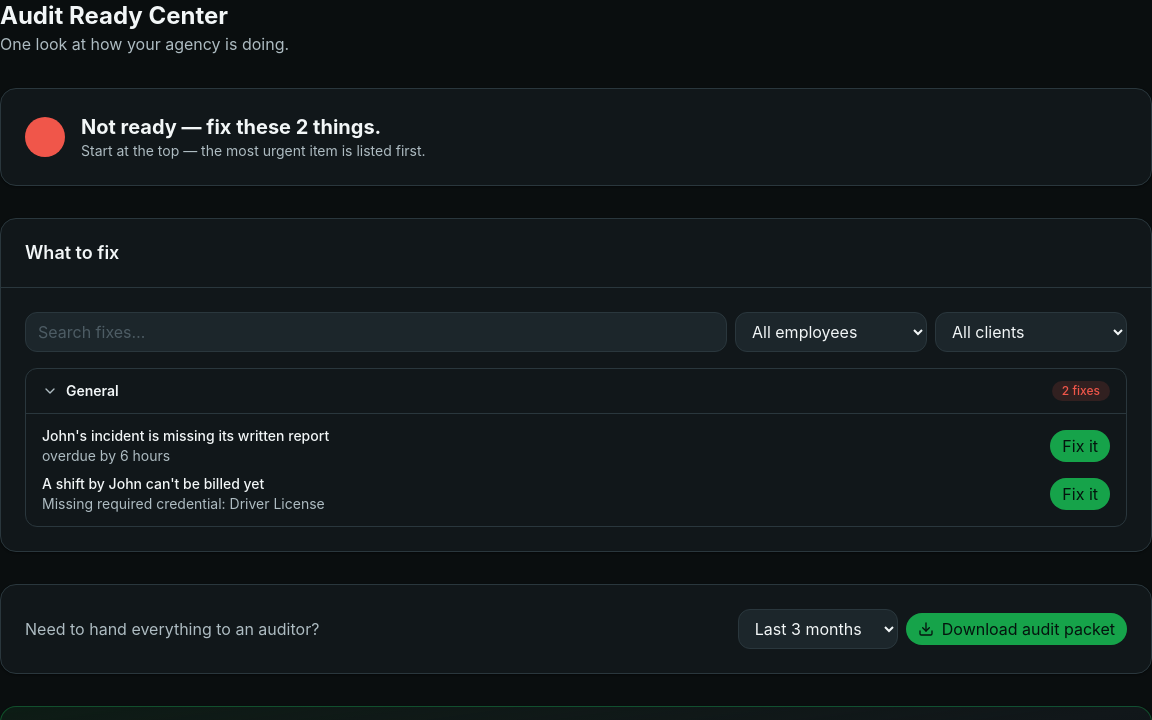
Test case: AuditReadinessPage — simple view (default) › shows a fix-it button per item with in-place actions per kind
The image size is (1152, 720).
expect the text "Not ready — fix these 2 things." is shown: met, box [81,113,426,141]
expect the text "overdue by 6 hours" is shown: met, box [42,447,170,464]
# SIR items record the report in place instead of redirecting.
Click the button "Fix it" in the row of "overdue by 6 hours" at (1080, 446), box [1050,430,1110,462]
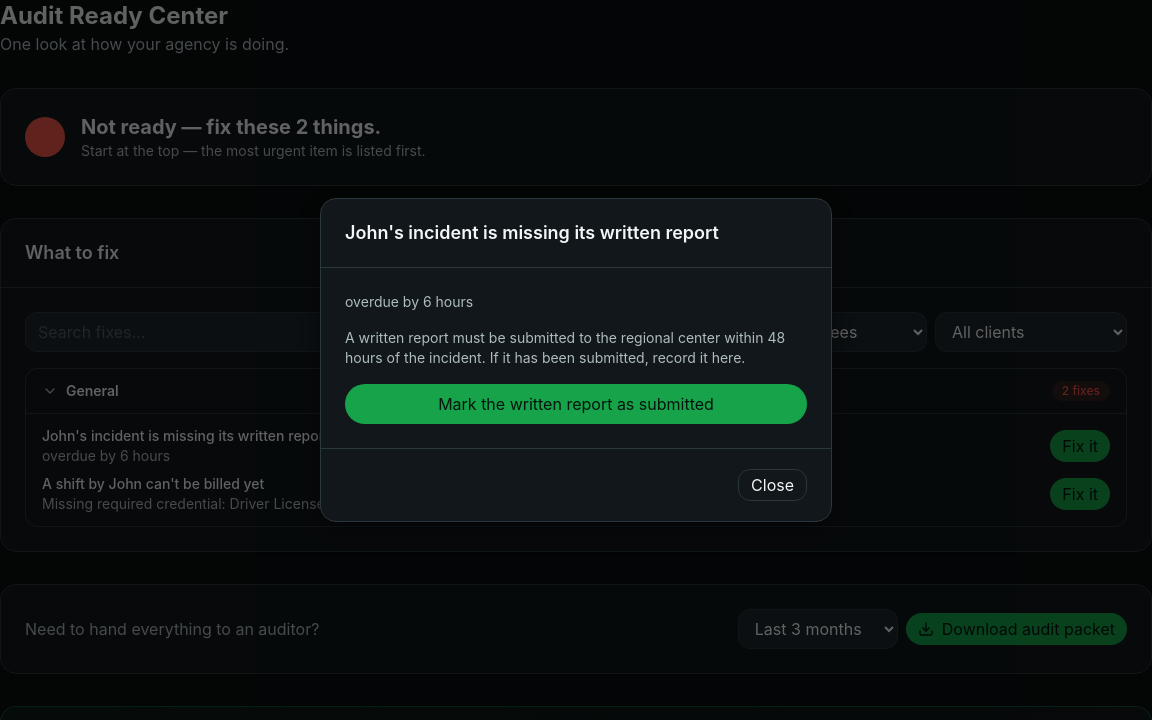
expect the button "Mark the written report as submitted" is shown: met, box [345,384,807,424]
Click the button "Close" at (773, 485), box [738,469,807,501]
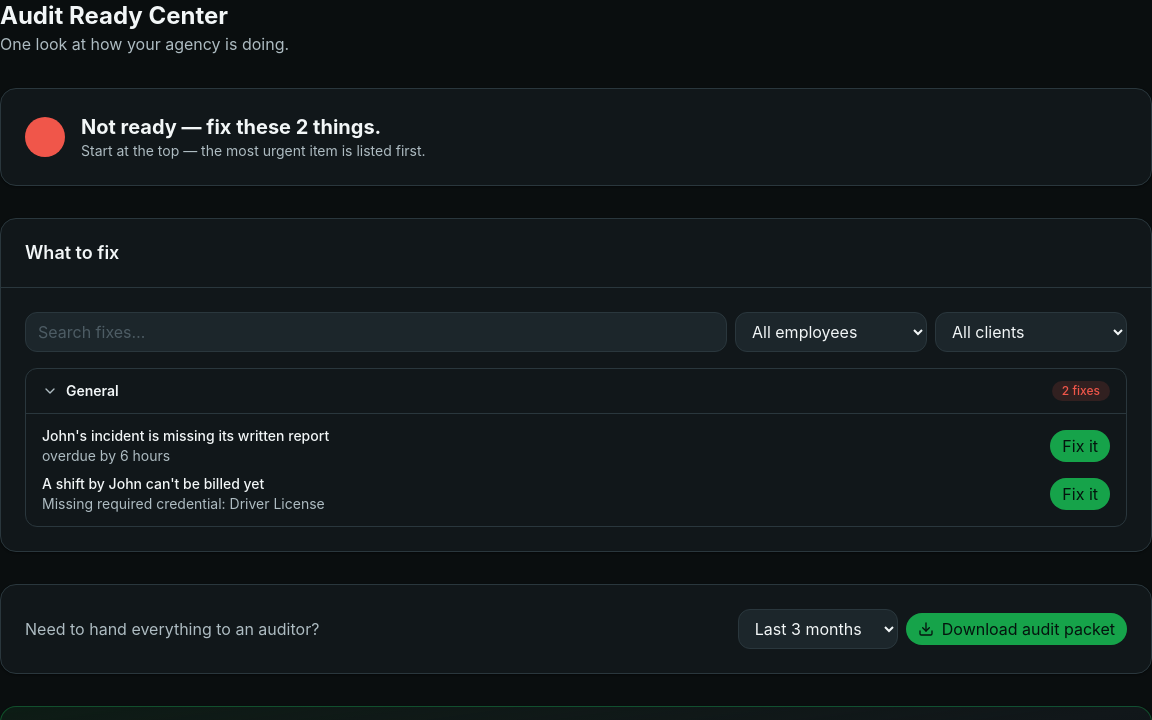
Click the button "Fix it" in the row of "A shift by John can't be billed yet" at (1080, 494), box [1050,478,1110,510]
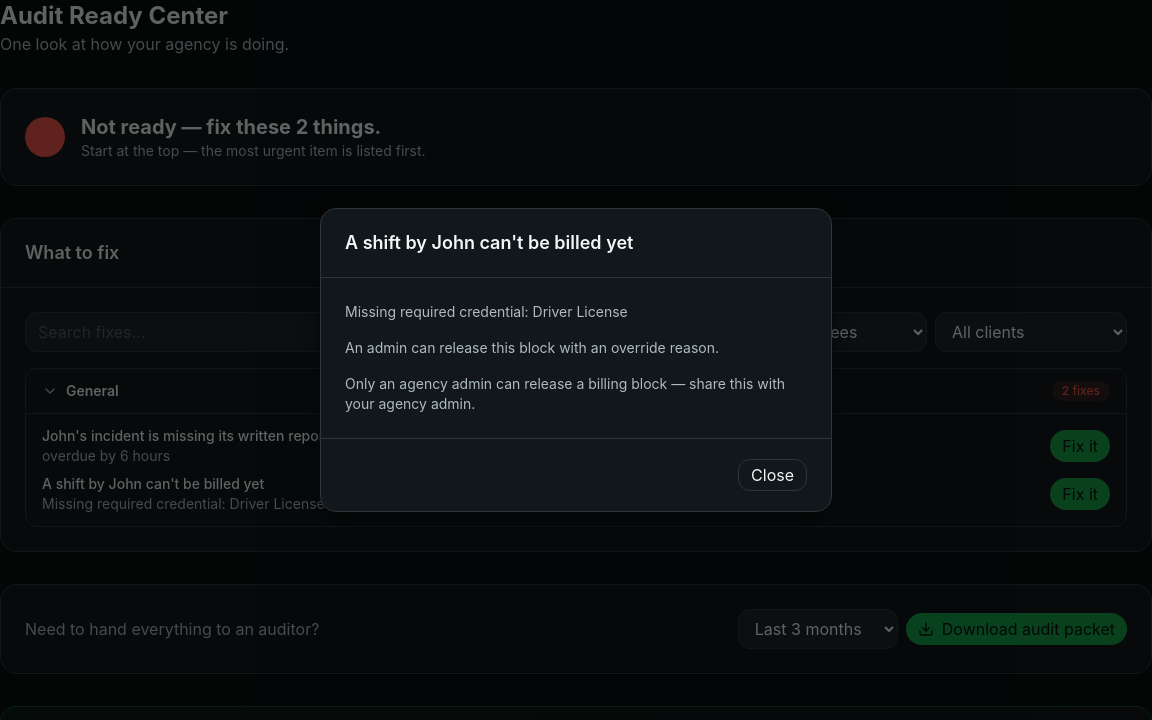
expect the dialog shows "Only an agency admin can release a billing block": met, box [345,375,785,412]
